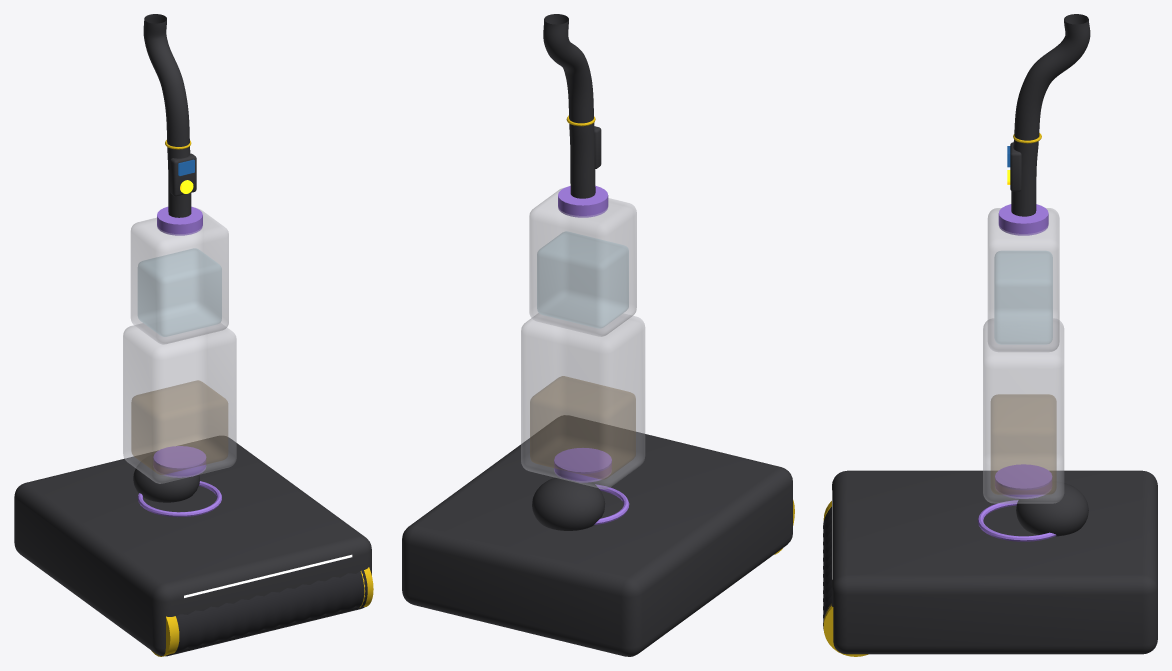
File: hydrovac.glb
The picture shows the model from 3 angles, left to right: view 1: azimuth 30°, elevation 25°; view 2: azimuth 150°, elevation 25°; view 3: azimuth 270°, elevation 25°; orthographic projection. The views are drawn at different scales.
Visible parts, largest first — view 1: FloorHead, DirtyTank, CleanTank, DirtyWaterVolume, Brushroll, CleanWaterVolume, HandleTube, PivotJoint, DirtyTankCap, CleanTankCap, HeadTrimRing, ControlPanel (+1 smaller); view 2: FloorHead, DirtyTank, CleanTank, DirtyWaterVolume, CleanWaterVolume, HandleTube, PivotJoint, DirtyTankCap, CleanTankCap; view 3: FloorHead, DirtyTank, CleanTank, DirtyWaterVolume, CleanWaterVolume, HandleTube, PivotJoint, DirtyTankCap, CleanTankCap, Brushroll, HeadTrimRing, ControlPanel.
Part boxes in pixels (left/top/right/bottom): FloorHead: left=14, top=436, right=371, bottom=656; DirtyTank: left=123, top=323, right=236, bottom=483; CleanTank: left=130, top=208, right=228, bottom=344; DirtyWaterVolume: left=131, top=380, right=227, bottom=474; Brushroll: left=175, top=569, right=367, bottom=652; CleanWaterVolume: left=138, top=248, right=221, bottom=336; HandleTube: left=143, top=14, right=191, bottom=217; PivotJoint: left=133, top=454, right=199, bottom=502; DirtyTankCap: left=153, top=446, right=206, bottom=477; CleanTankCap: left=157, top=206, right=202, bottom=235; HeadTrimRing: left=137, top=481, right=221, bottom=517; ControlPanel: left=170, top=153, right=196, bottom=196; FloorHead: left=402, top=415, right=792, bottom=656; DirtyTank: left=521, top=313, right=645, bottom=489; CleanTank: left=529, top=188, right=636, bottom=336; DirtyWaterVolume: left=530, top=376, right=635, bottom=479; CleanWaterVolume: left=537, top=231, right=628, bottom=328; HandleTube: left=543, top=14, right=595, bottom=198; PivotJoint: left=532, top=477, right=605, bottom=530; DirtyTankCap: left=554, top=448, right=611, bottom=482; CleanTankCap: left=558, top=185, right=608, bottom=217; FloorHead: left=832, top=470, right=1157, bottom=654; DirtyTank: left=983, top=318, right=1064, bottom=503; CleanTank: left=987, top=208, right=1059, bottom=352; DirtyWaterVolume: left=991, top=394, right=1056, bottom=494; CleanWaterVolume: left=994, top=251, right=1052, bottom=344; HandleTube: left=1011, top=14, right=1090, bottom=216; PivotJoint: left=1016, top=481, right=1088, bottom=536; DirtyTankCap: left=995, top=464, right=1052, bottom=498; CleanTankCap: left=998, top=204, right=1048, bottom=235; Brushroll: left=823, top=506, right=831, bottom=630; HeadTrimRing: left=977, top=500, right=1056, bottom=541; ControlPanel: left=1010, top=142, right=1021, bottom=191.
Bounding box in the file's own units: 0.285 × 0.6722 × 0.3492.
